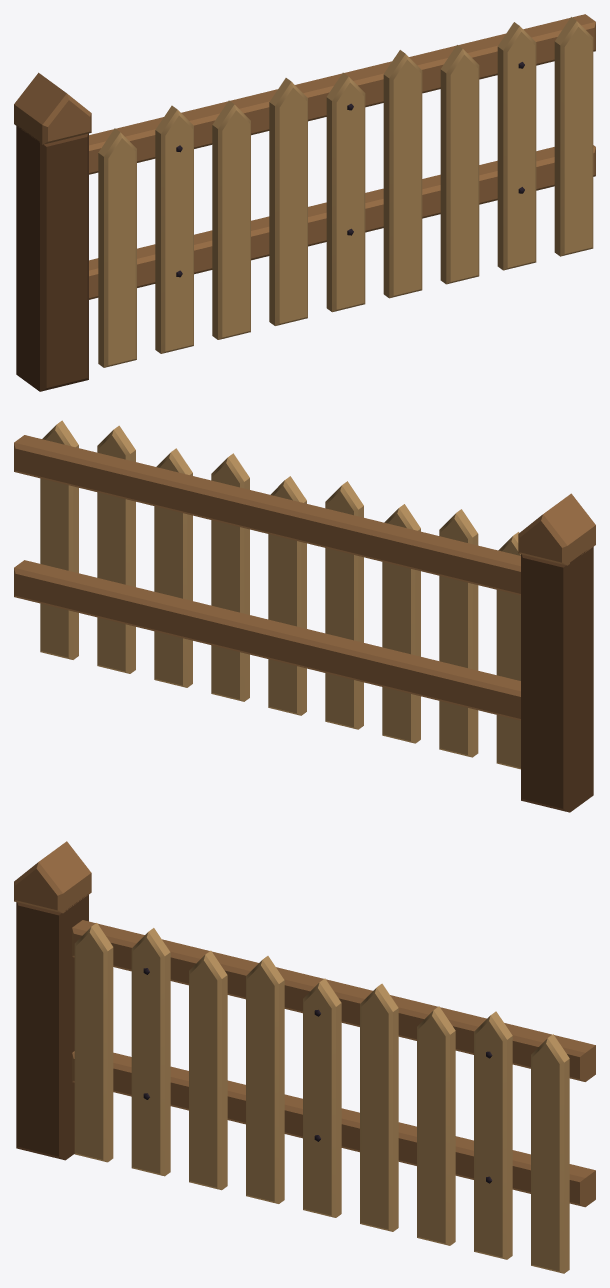
File: Fence_15.glb
3 views of the same model, one above another, from view 1: azimuth 30°, elevation 25°; view 2: azimuth 150°, elevation 25°; view 3: azimuth 330°, elevation 25° (orthographic).
Visible parts, largest first — view 1: Fence_15; view 2: Fence_15; view 3: Fence_15.
Part boxes in pixels (x1,y1,x2,y2): Fence_15: (14,14,595,391); Fence_15: (14,420,595,812); Fence_15: (14,841,595,1273).
Size of the model in its own units: 8 by 4 by 0.8288.
